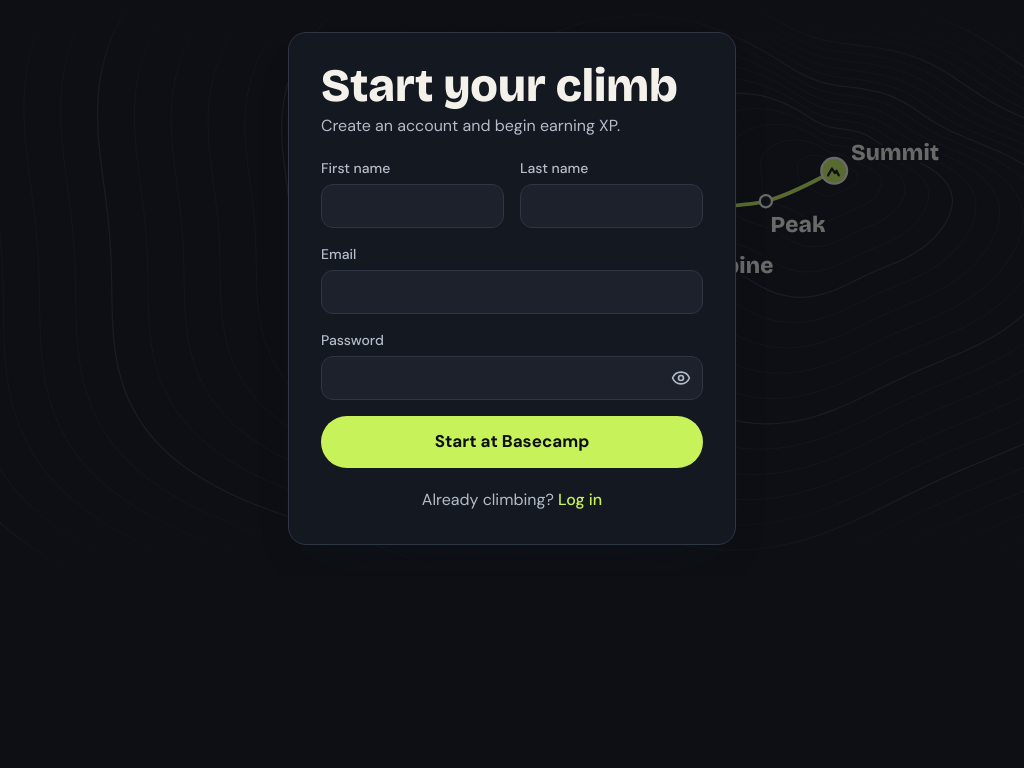
Scenario: AuthPage: sign up face › hints at password strength without blocking the form
In the password field labelled "Password": [512, 378] box [321, 356, 703, 400], type "abc"
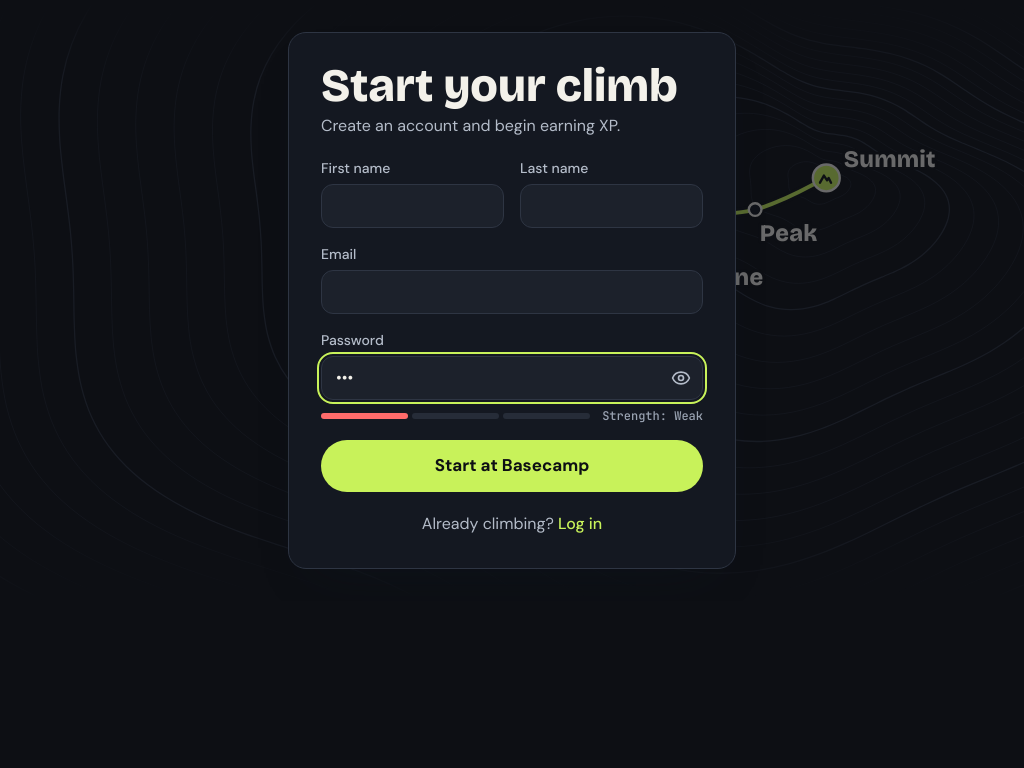
Expected: the message shows "Weak", [674, 408, 703, 424]
In the password field labelled "Password": [512, 378] box [321, 356, 703, 400], type "Correct-horse-9"
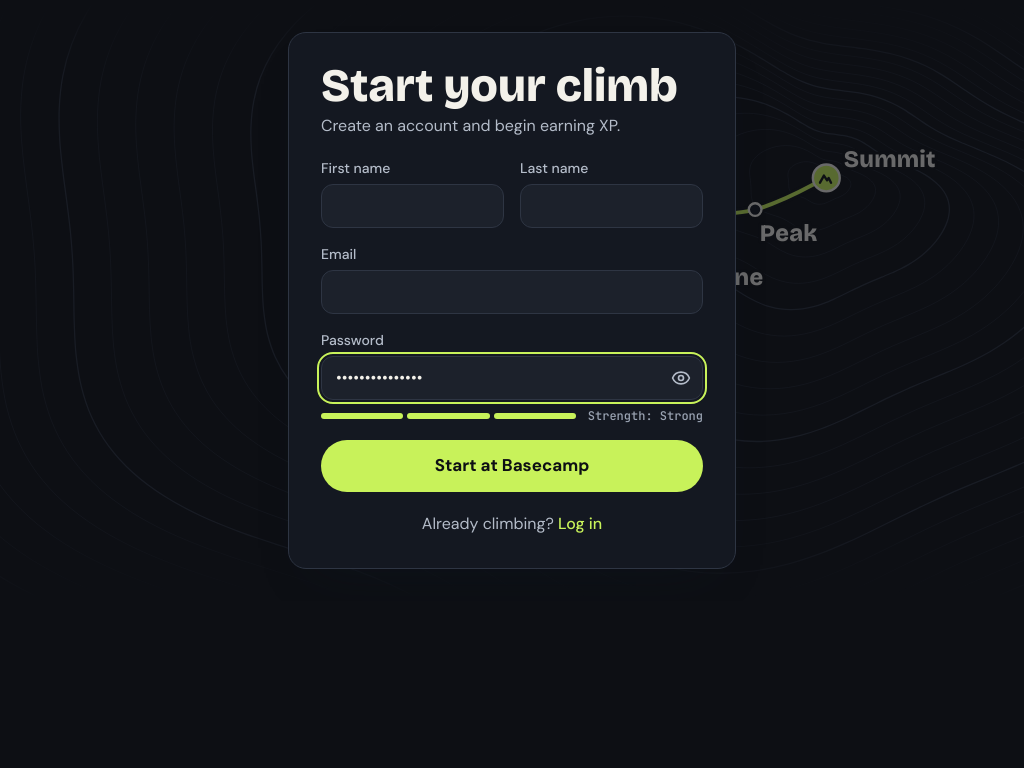
Expected: the message shows "Strong", [660, 408, 703, 424]
